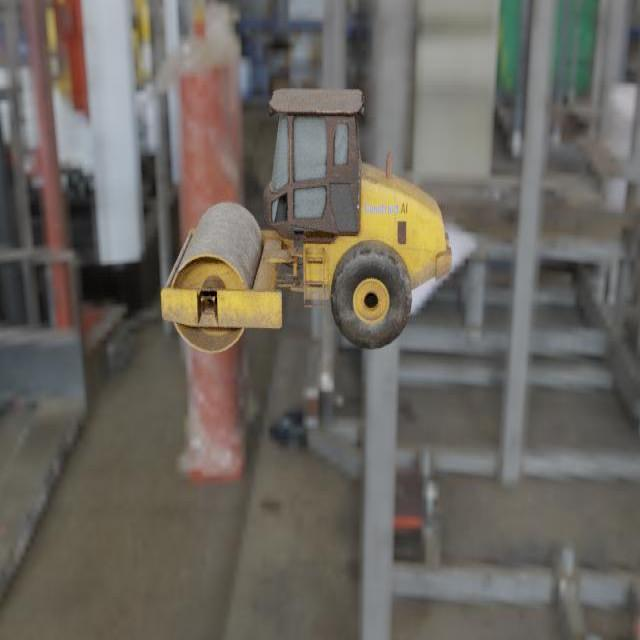Roller: (160, 90, 452, 353)
